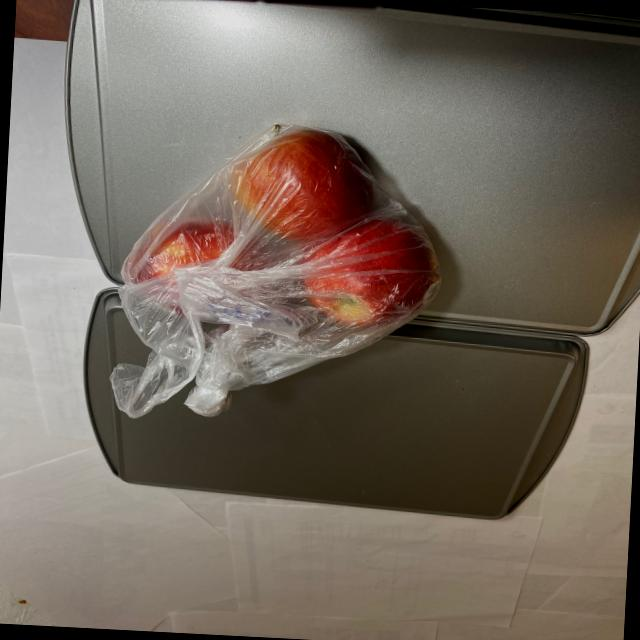apple: (118, 112, 458, 334)
